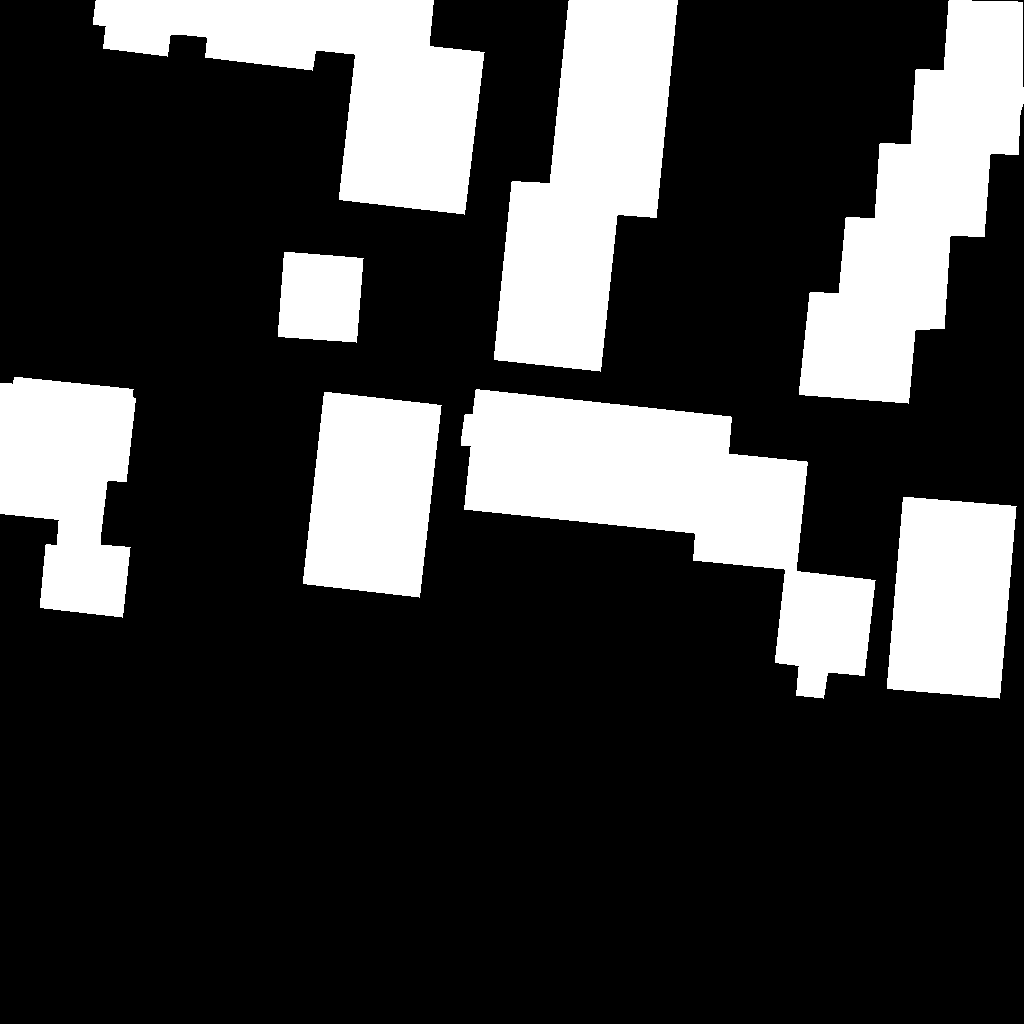building: (461, 389, 876, 699), (799, 0, 1024, 404), (93, 0, 485, 215), (494, 0, 679, 372), (0, 377, 136, 618), (303, 392, 442, 598), (887, 497, 1017, 699), (278, 252, 364, 343)
